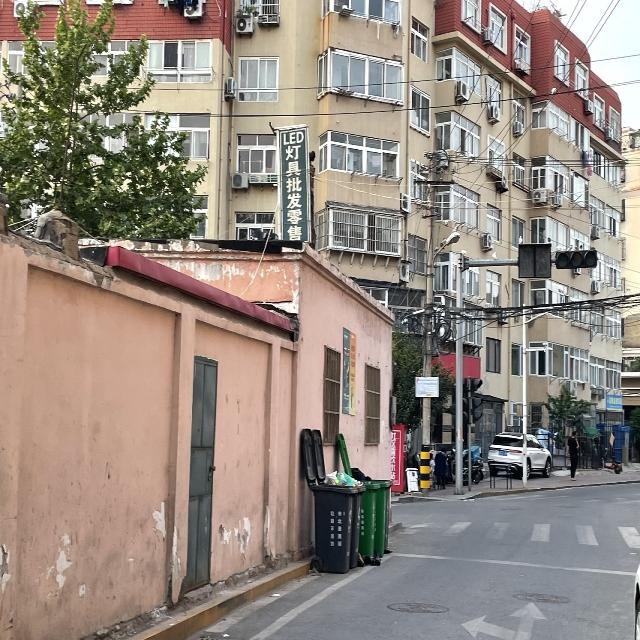garbage_bin: (358, 482, 380, 557), (374, 479, 390, 556)
overflow: (311, 471, 364, 574)
